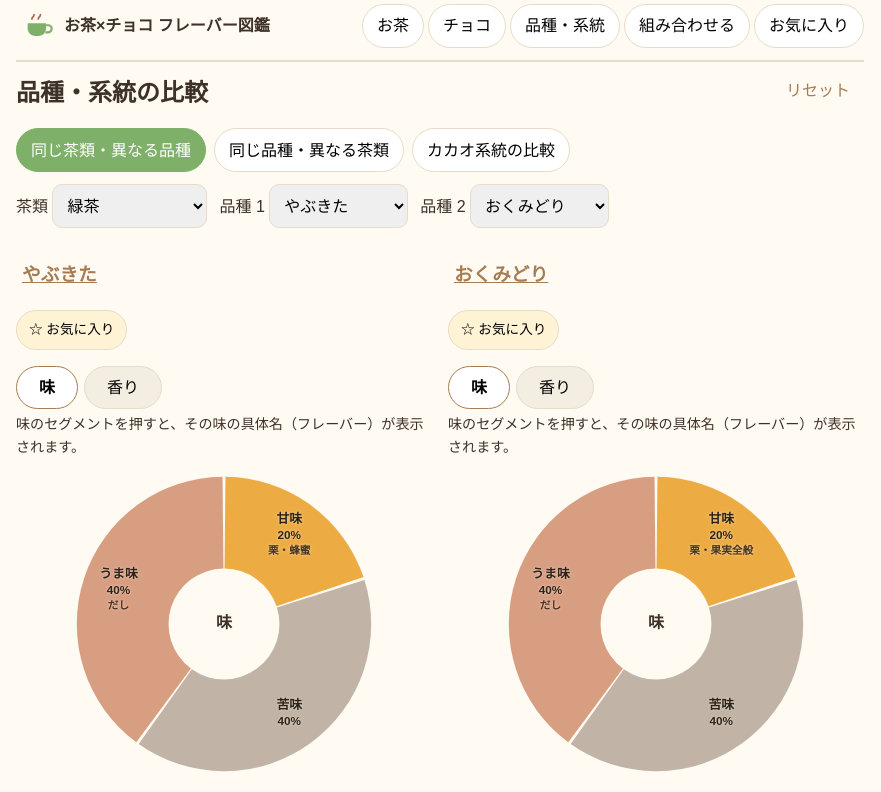
Test: 品種・系統データベースの画面連携 › 品種比較（同じ茶類）で やぶきた と おくみどり を別品種として並べられる
The width and height of the screenshot is (881, 792).
Select "抹茶" in the dropdown labelled "茶類" at [130, 206], box [52,184,208,228]
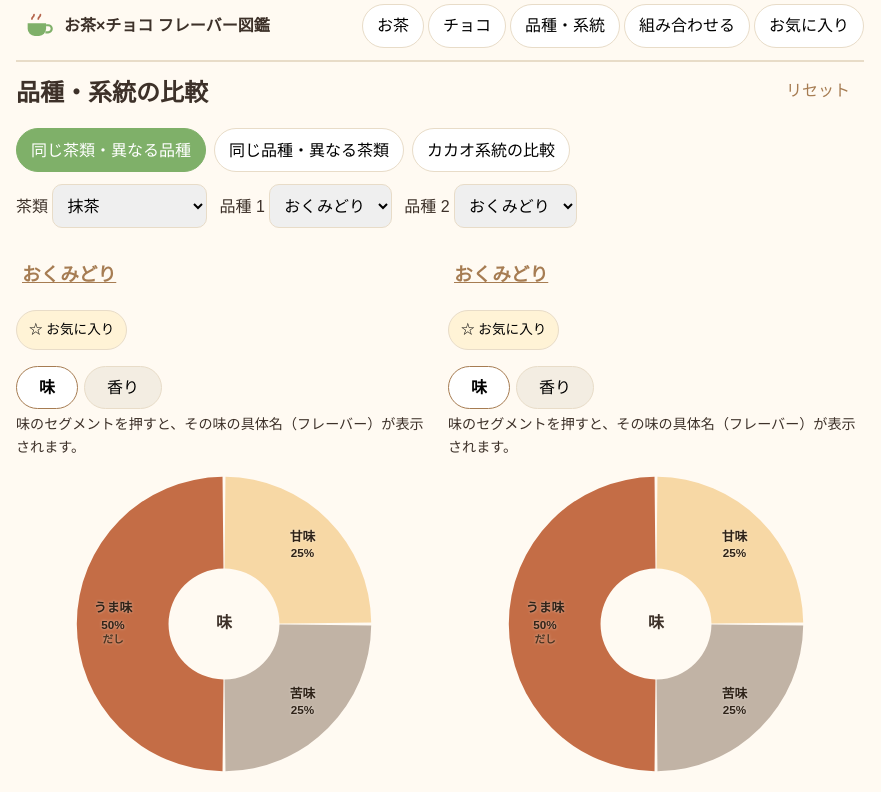
Select "うじみどり" in the dropdown labelled "品種 2" at [516, 206], box [454,184,577,228]
(page scrolled)
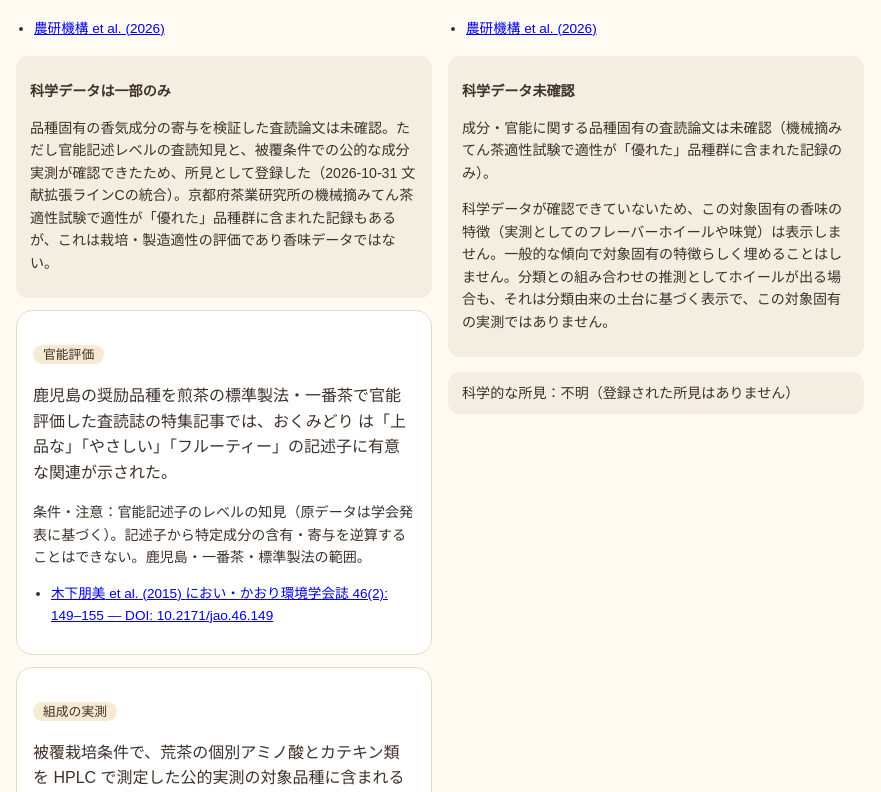
Now the text "科学的な所見：不明（登録された所見はありません）" is shown, box [448,372,864,414]
